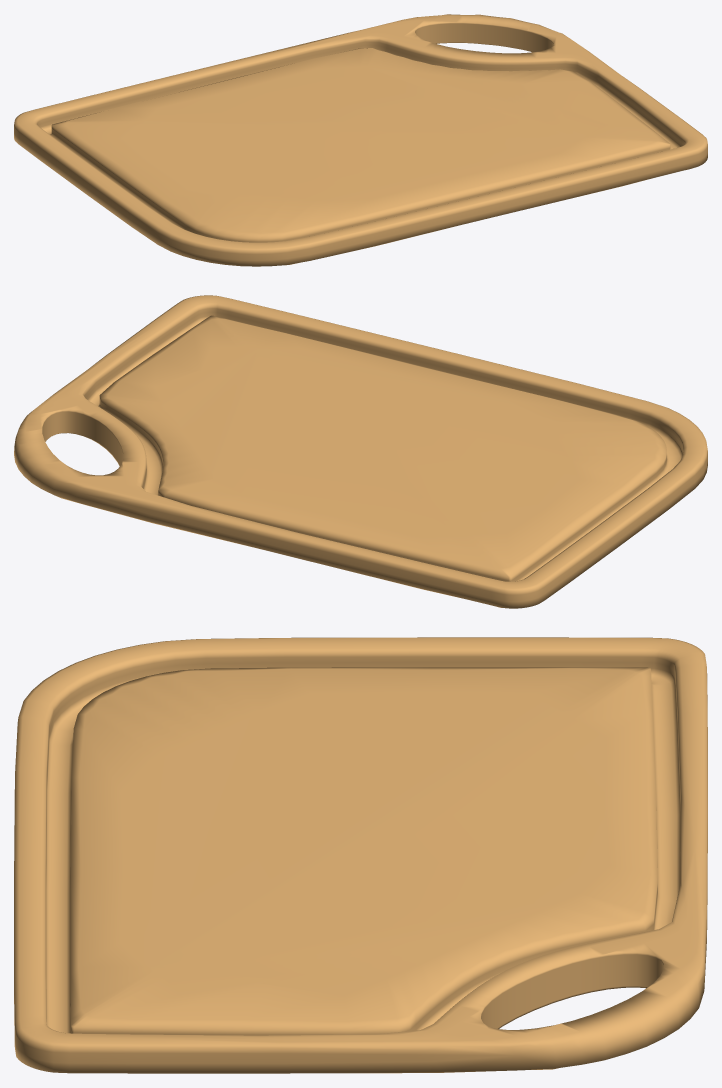
Rendered from chopping_board.fbx.
3 renders of one model, top to bottom at view 1: azimuth 30°, elevation 25°; view 2: azimuth 150°, elevation 25°; view 3: azimuth 270°, elevation 25°, orthographic. The views are drawn at different scales.
Visible parts, largest first — view 1: chopping_board; view 2: chopping_board; view 3: chopping_board.
Boxes of the visible parts, <box> form: chopping_board: <box>14,14,707,266</box>; chopping_board: <box>14,295,707,608</box>; chopping_board: <box>14,637,707,1073</box>.
Bounding box in the file's own units: 229 × 9.32 × 163.
